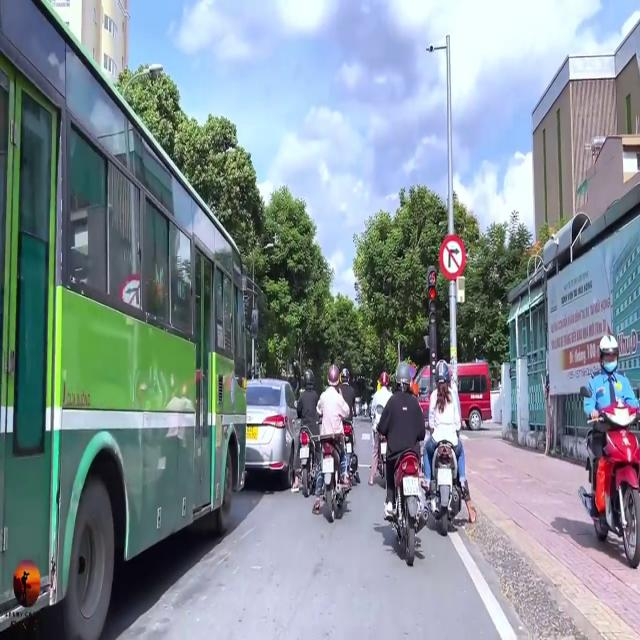bien_trang: (402, 477, 419, 493)
bien_vang: (245, 425, 259, 439)
